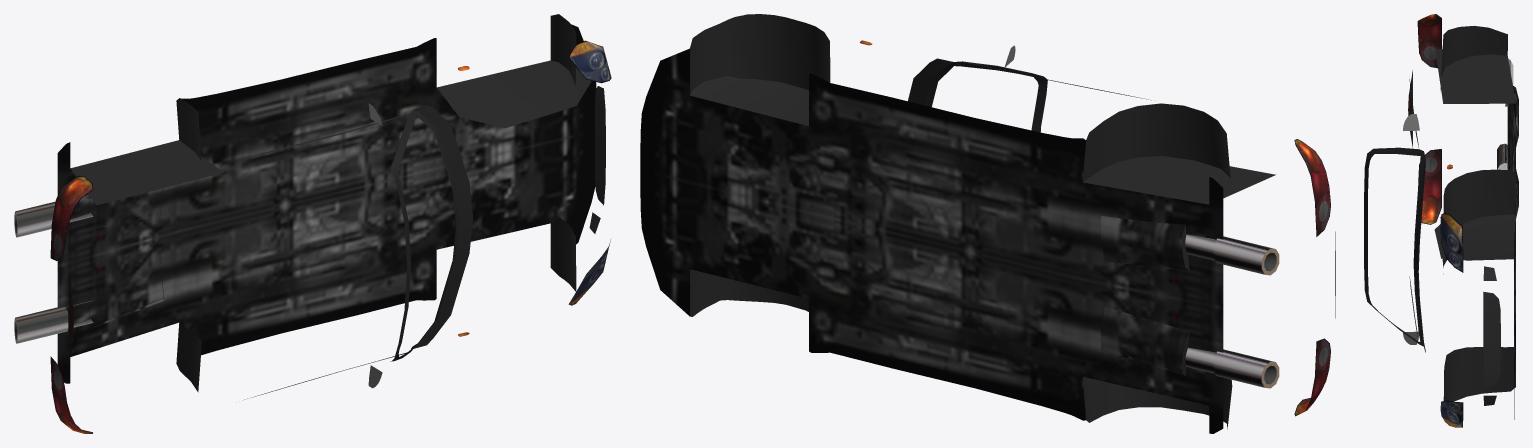
Rendered from details_convertible.obj.
3 renders of one model, left to right at view 1: azimuth 30°, elevation 25°; view 2: azimuth 150°, elevation 25°; view 3: azimuth 270°, elevation 25°, orthographic. The views are drawn at different scales.
Parts seen in each view (by area): view 1: baked, 2_-_Default, 13_-_Default, 3_-_Default; view 2: baked, 2_-_Default, 13_-_Default; view 3: 2_-_Default, baked, 13_-_Default, 3_-_Default, mirrors.
Part boxes in pixels (x1,y1,x2,y2): baked: [14, 24, 611, 433]; 2_-_Default: [70, 14, 591, 392]; 13_-_Default: [239, 105, 473, 399]; 3_-_Default: [589, 86, 605, 233]; baked: [640, 40, 1335, 433]; 2_-_Default: [690, 14, 1275, 429]; 13_-_Default: [908, 58, 1151, 132]; 2_-_Default: [1434, 26, 1518, 401]; baked: [1408, 14, 1518, 427]; 13_-_Default: [1364, 79, 1425, 352]; 3_-_Default: [1483, 266, 1500, 405]; mirrors: [1403, 114, 1419, 344].
Size of the model in its own units: 3.76 by 1.74 by 1.04.
Materials: 6 (1 with a texture image).
